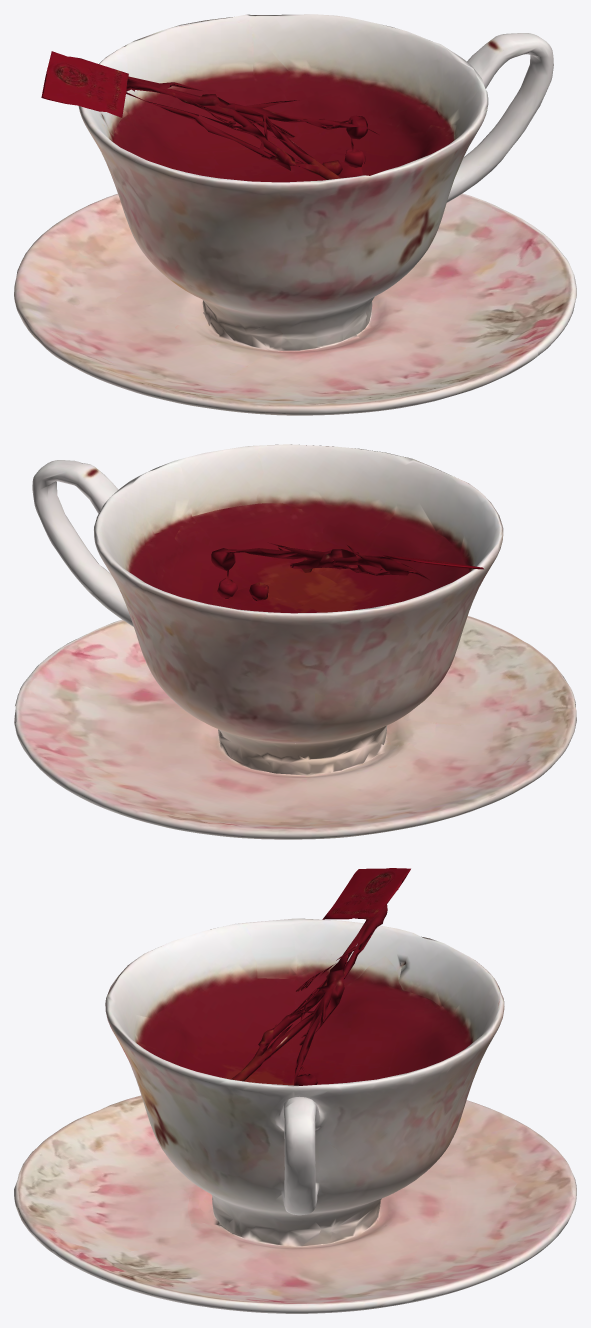
The model's file is hibiscus.glb.
The picture shows the model from 3 angles, top to bottom: view 1: azimuth 30°, elevation 25°; view 2: azimuth 150°, elevation 25°; view 3: azimuth 270°, elevation 25°; orthographic projection. The views are drawn at different scales.
Visible parts, largest first — view 1: tripo_node_036b9b5b-d42e-404f-a961-19bcc012d75e; view 2: tripo_node_036b9b5b-d42e-404f-a961-19bcc012d75e; view 3: tripo_node_036b9b5b-d42e-404f-a961-19bcc012d75e.
Part boxes in pixels (x1,y1,x2,y2): tripo_node_036b9b5b-d42e-404f-a961-19bcc012d75e: [14, 14, 576, 415]; tripo_node_036b9b5b-d42e-404f-a961-19bcc012d75e: [14, 444, 576, 839]; tripo_node_036b9b5b-d42e-404f-a961-19bcc012d75e: [14, 868, 576, 1313].
Size of the model in its own units: 0.9799 by 0.5046 by 0.9737.
Materials: 1 (1 with a texture image).
